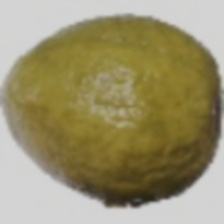guava: (37, 18, 223, 215)
